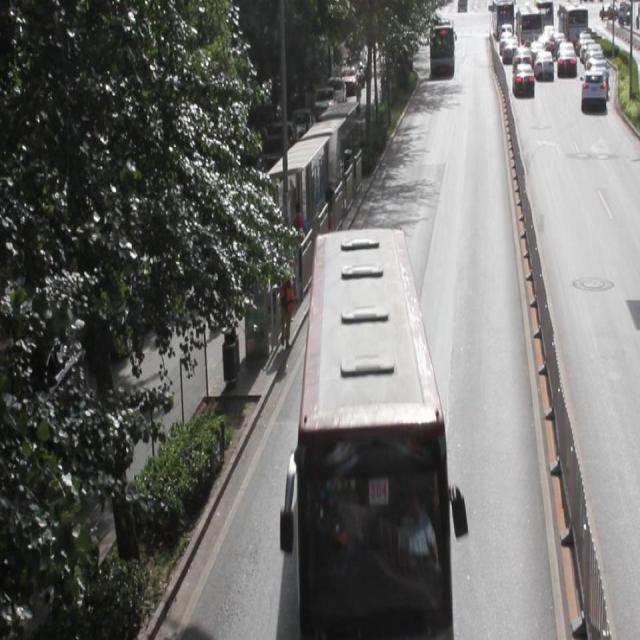van: (296, 227, 452, 640)
